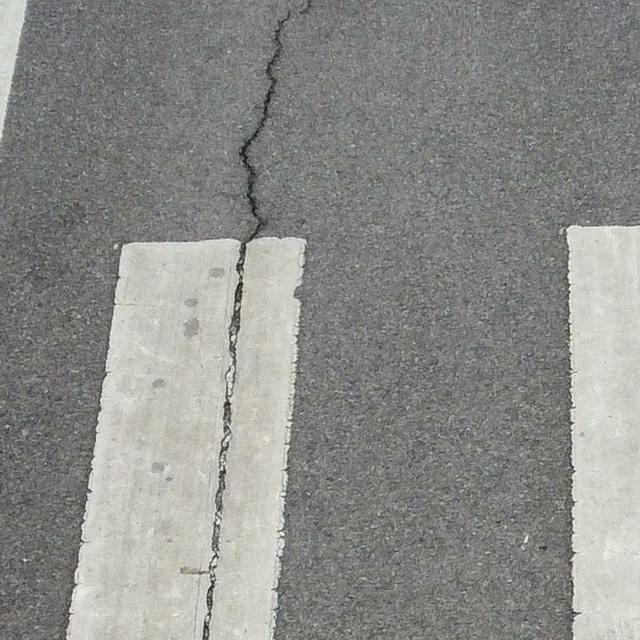LongitudinalCrack: (199, 1, 309, 639)
